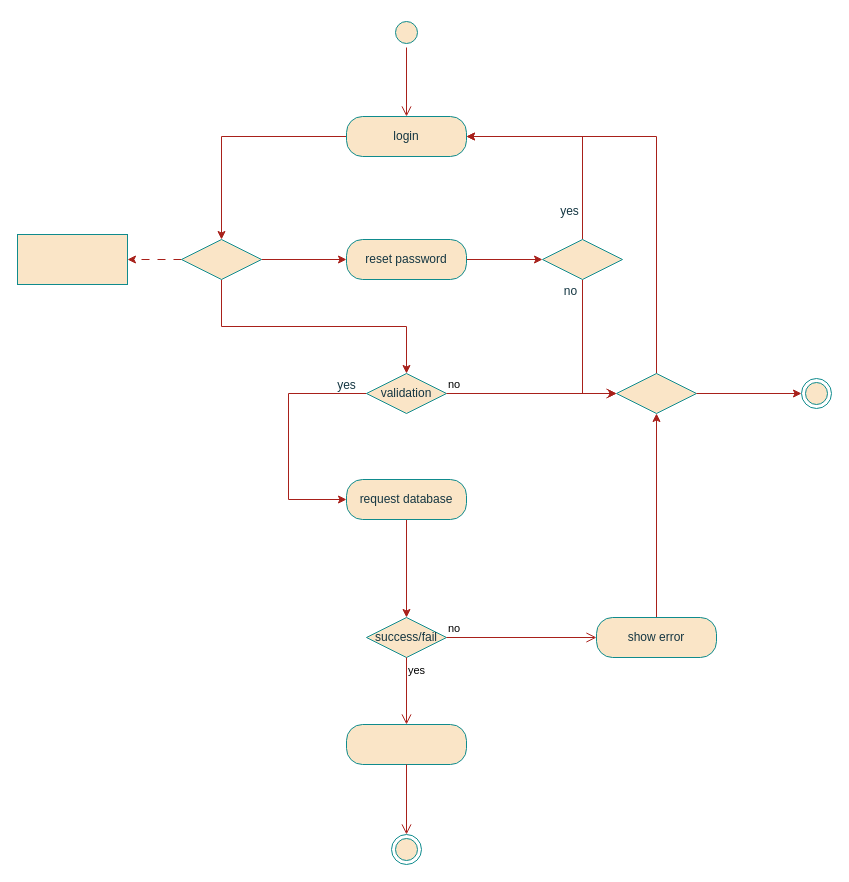
This 849x882 diagram has some shape labels left out. The centre of each missing label's shape, as x and y in pixels:
entered: [406,744]
patient: [72,259]
reset: [582,259]
